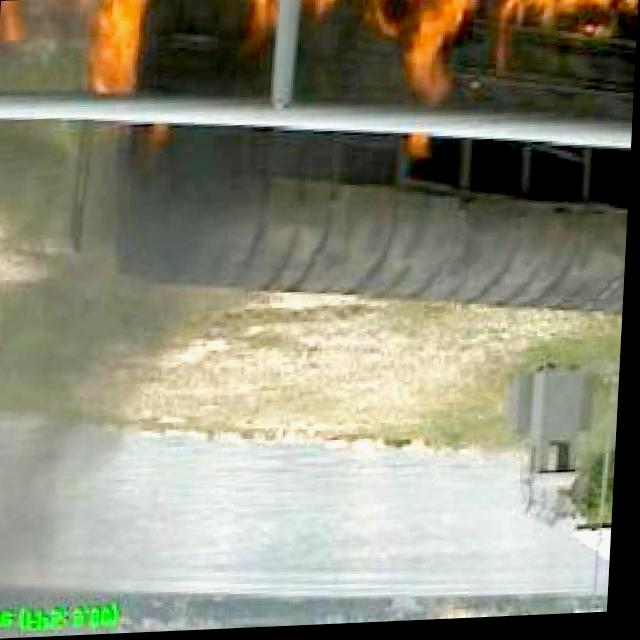Fire: (366, 0, 640, 86), (2, 0, 177, 90), (241, 0, 354, 56)
Smoke: (0, 192, 271, 602)
